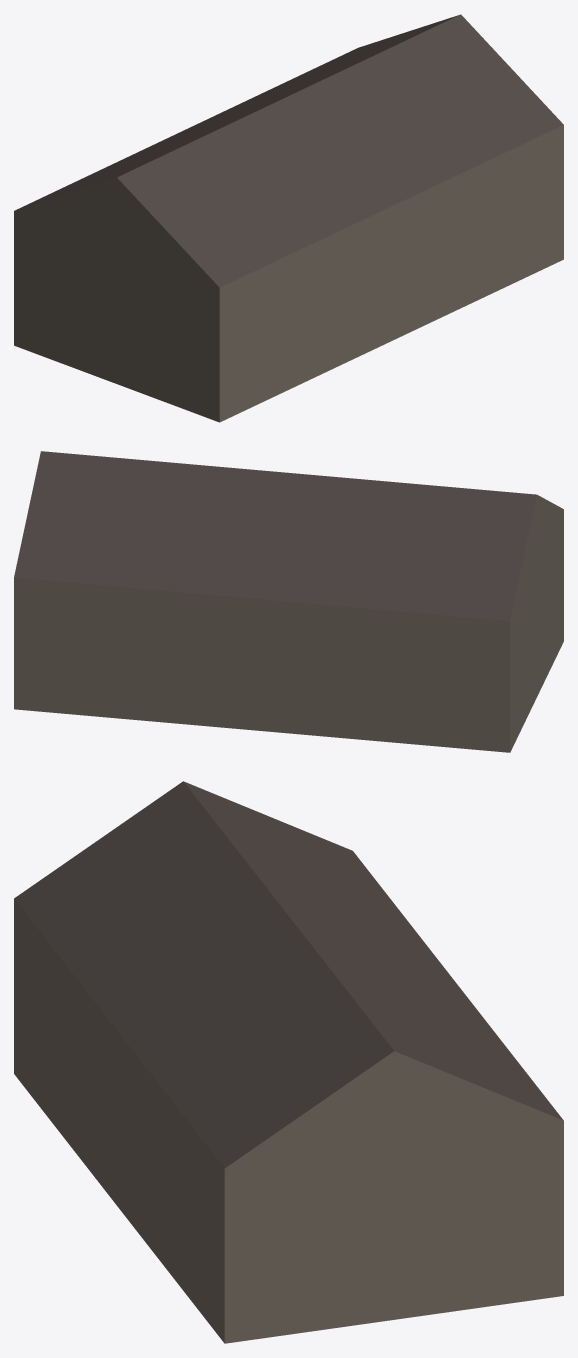
3 views of the same model, one above another, from view 1: azimuth 30°, elevation 25°; view 2: azimuth 150°, elevation 25°; view 3: azimuth 270°, elevation 25° (orthographic). The views are drawn at different scales.
Visible parts, largest first — view 1: HP-w1367350981; view 2: HP-w1367350981; view 3: HP-w1367350981.
Boxes of the visible parts, x1,y1,x2,y2 form: HP-w1367350981: (14, 14, 563, 422); HP-w1367350981: (14, 451, 563, 752); HP-w1367350981: (14, 781, 563, 1343).
Bounding box in the file's own units: 23.34 × 9.21 × 17.07.
